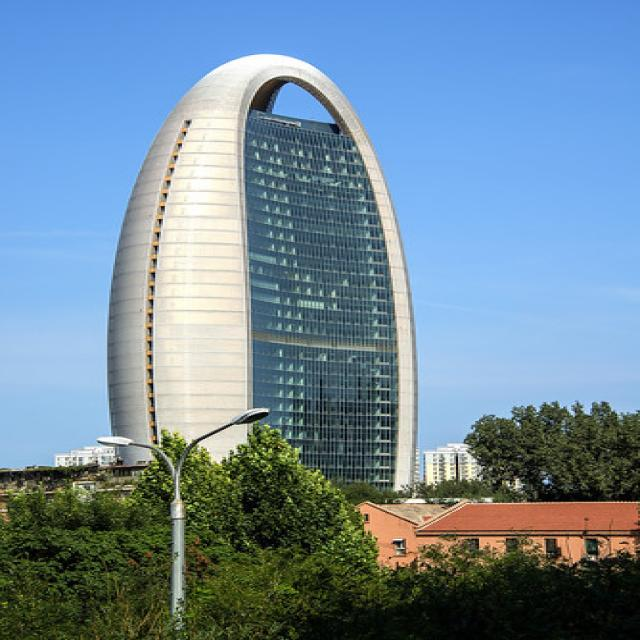building: (98, 48, 423, 504)
